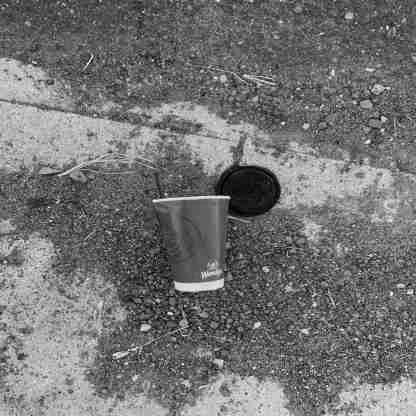plastic: (149, 192, 236, 295), (225, 164, 276, 218)
